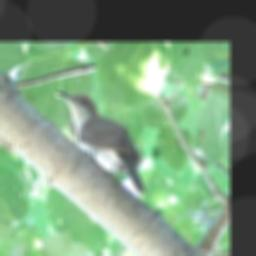Cuckoo: (55, 90, 148, 197)
